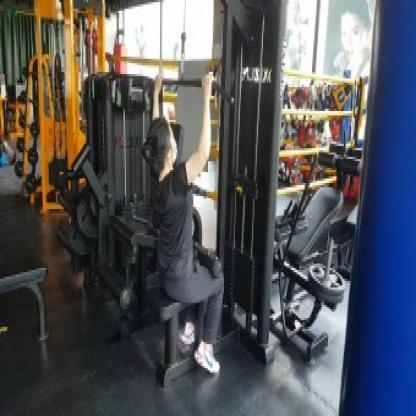Lat Pull Down: (120, 0, 285, 394)
